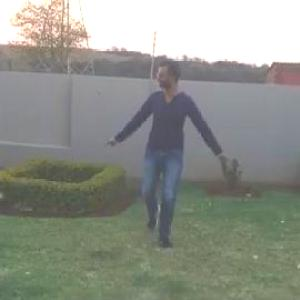land: (84, 47, 248, 274)
